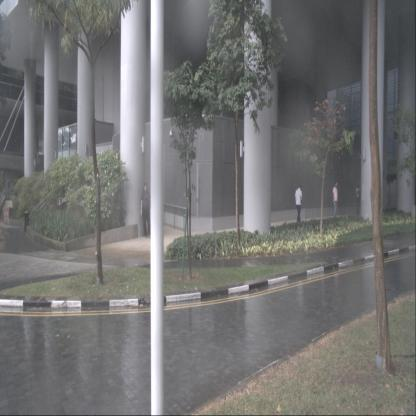human-pedestrian-adult: (140, 183, 151, 238), (294, 184, 302, 223), (355, 184, 361, 217), (333, 181, 338, 219)
